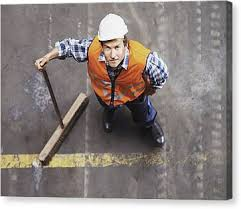Person_wearing_helmet: (91, 10, 132, 50)
